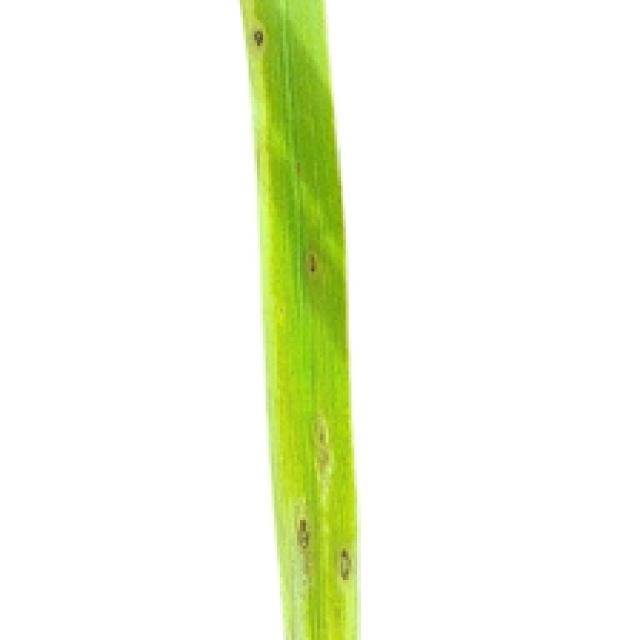Rice___Rice_Blast: (236, 0, 358, 637)
